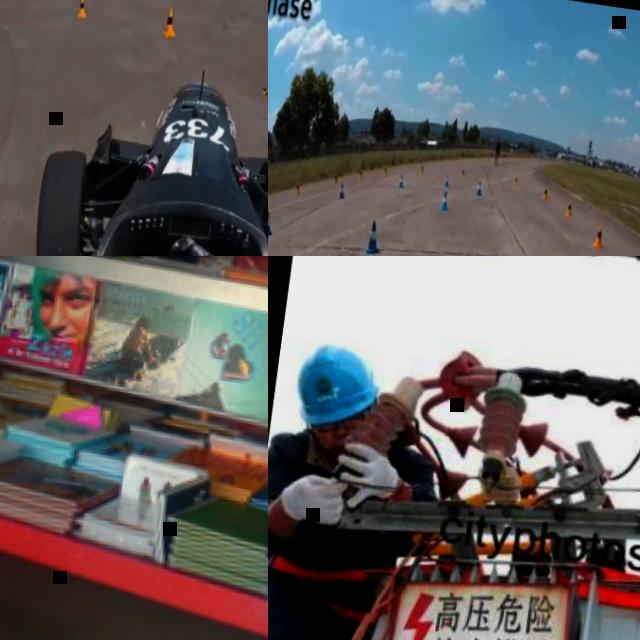Hardhat: (293, 338, 386, 431)
NO-Mask: (325, 434, 346, 461)
NO-Safety Vest: (268, 434, 424, 601), (494, 143, 499, 154)
Person: (268, 335, 456, 640), (493, 138, 502, 165)
Safety Cone: (363, 221, 383, 256), (162, 7, 180, 42), (258, 48, 268, 103), (590, 224, 605, 249), (439, 188, 451, 214), (72, 0, 87, 18), (268, 210, 276, 242), (337, 180, 347, 201), (563, 198, 573, 218), (475, 180, 484, 199), (292, 182, 302, 199), (397, 173, 405, 190), (541, 185, 549, 201), (443, 172, 451, 188), (332, 171, 340, 186), (357, 167, 364, 181), (382, 163, 388, 176), (419, 163, 425, 175), (460, 167, 466, 178), (514, 175, 519, 186)
vehicle: (0, 45, 268, 256)
